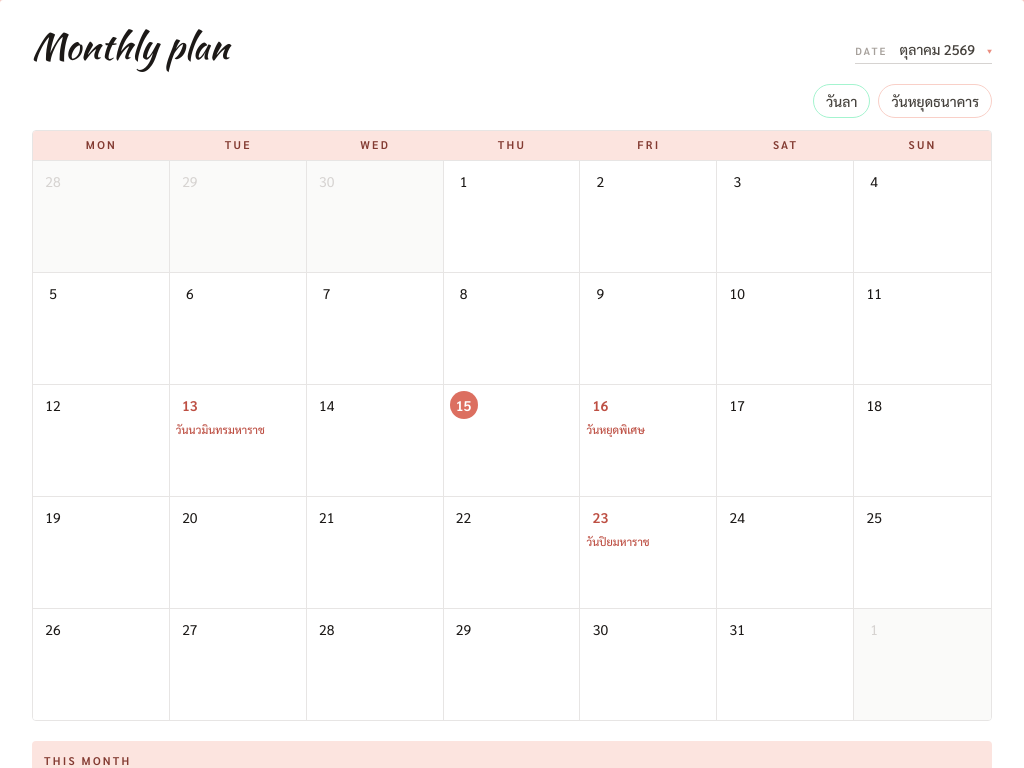
Test: bank holidays › says when a year has no holidays yet, and closes on Escape
Click the button "วันหยุดธนาคาร".
click(935, 101)  # box x1=878 y1=84 x2=992 y2=118
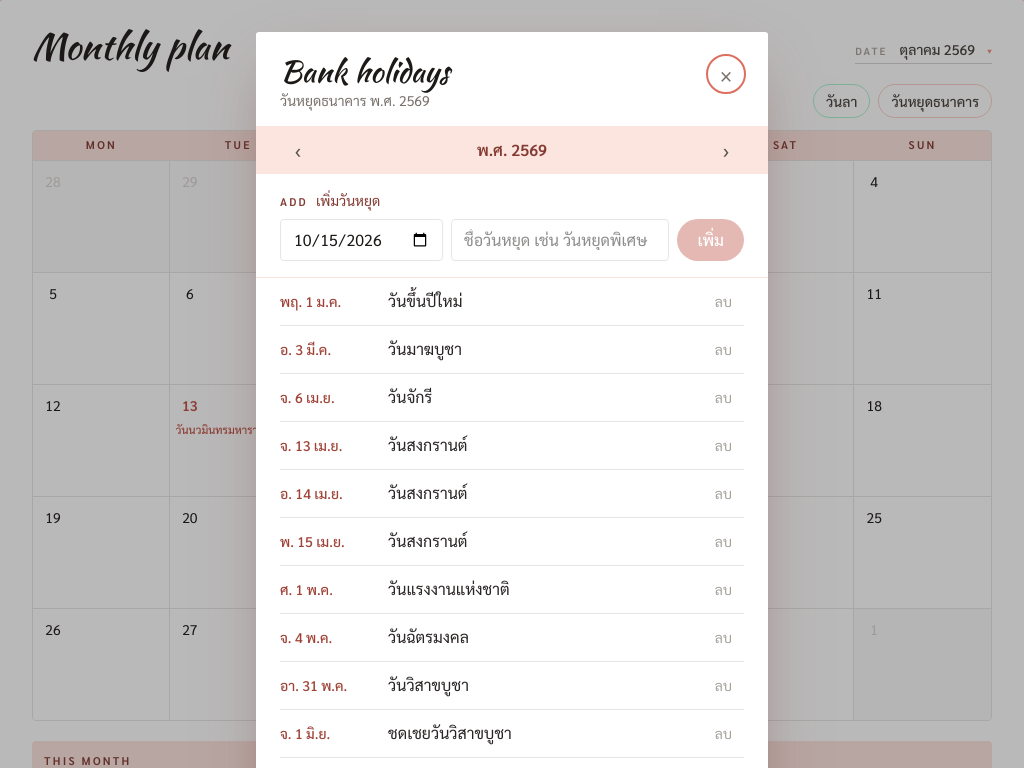
Click the button named "ปีถัดไป".
click(726, 150)  # box x1=708 y1=132 x2=744 y2=168
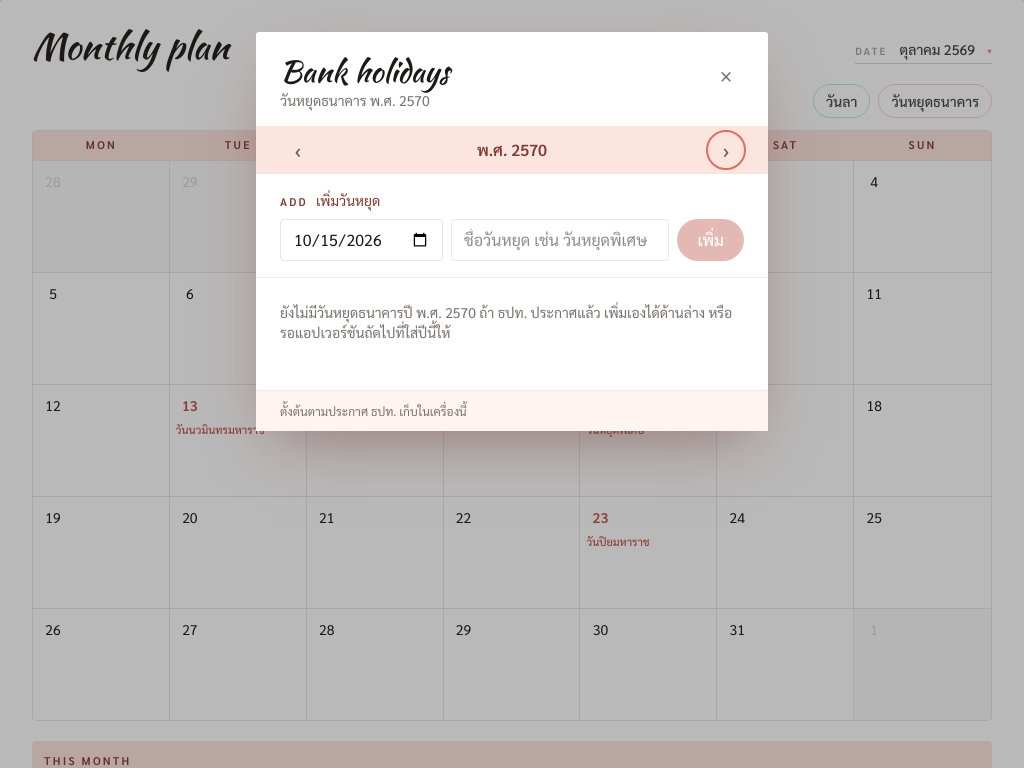
Check: the dialog "วันหยุดธนาคาร" shows "ยังไม่มีวันหยุดธนาคารปี", box x1=280 y1=303 x2=416 y2=321
Press Escape
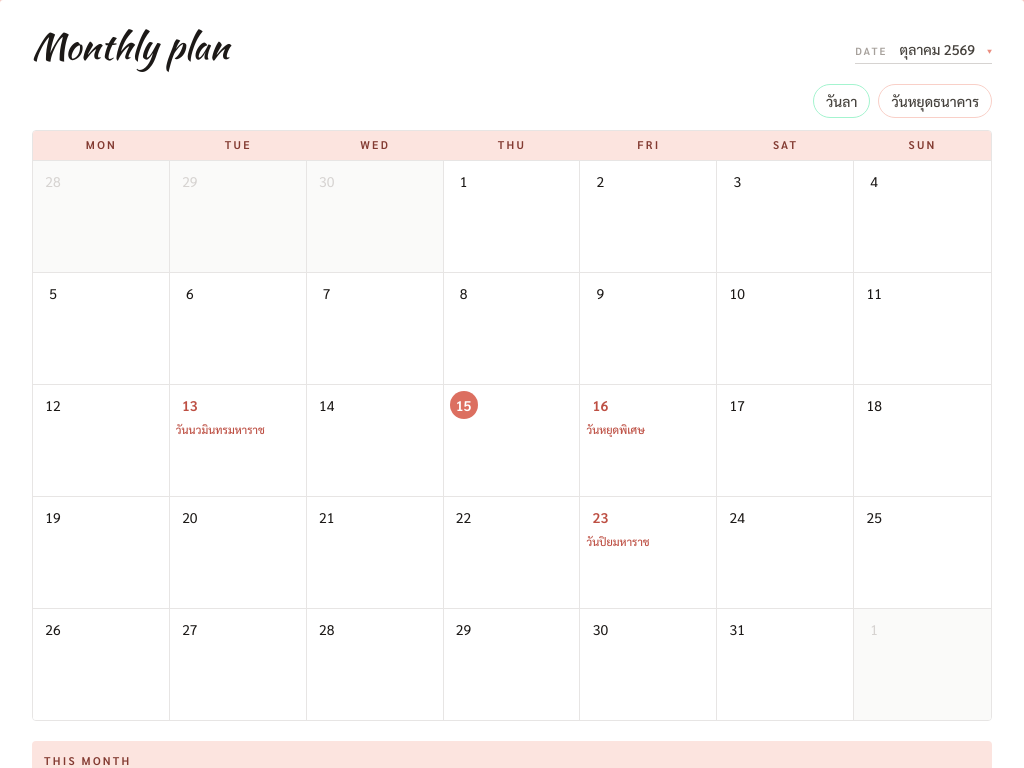
Check: the dialog is gone
